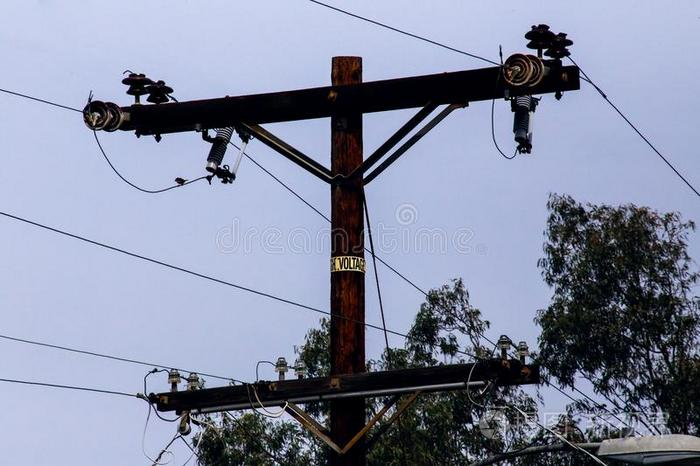insulator: (502, 49, 544, 88), (79, 101, 125, 133)
